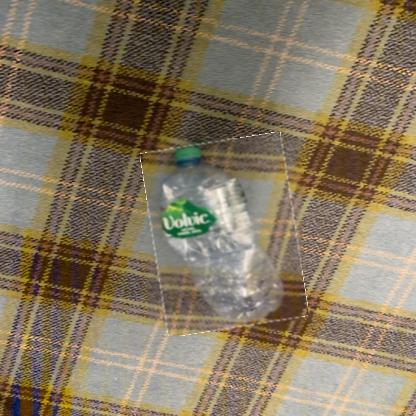plastic-bottles: (148, 139, 304, 333)
